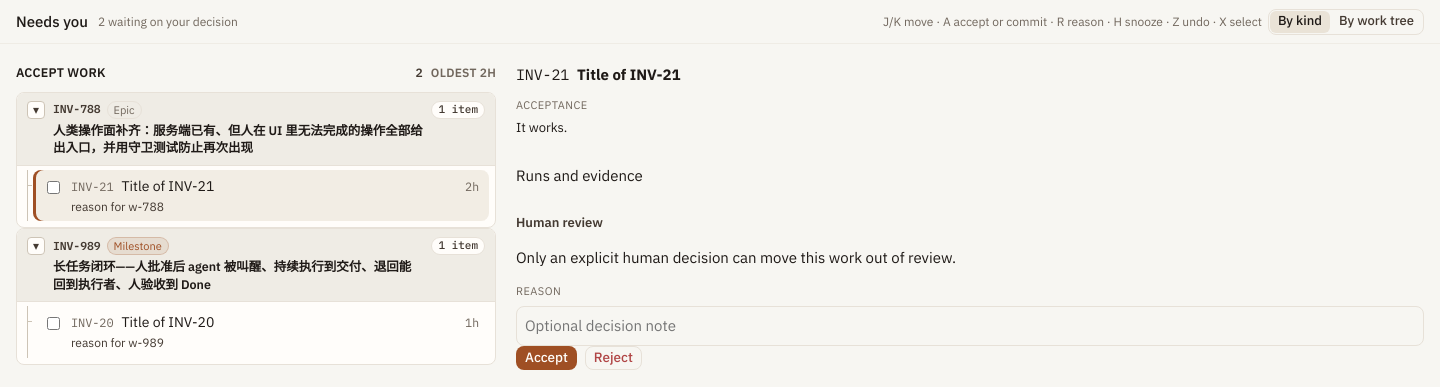
Test case: Needs you (INV-1092) › renders a milestone, epic or project group as a collapsible parent container with nested child items (INV-1302)
The image size is (1440, 387).
Expected: the text with class "attention-group__name" reads "长任务闭环——人批准后 agent 被叫醒、持续执行到交付、退回能回到执行者、人验收到 Done", [53,258,411,292]
Expected: the 2nd text with class "attention-group__count" reads "1 item", [431,237,485,255]
Note: Collapsing the Epic parent hides its child issue row and shifts focus to the remaining open group's child.
Click the button with class "attention-group__label" that starts with "INV-788" at [256, 129], box [17,92,495,166]
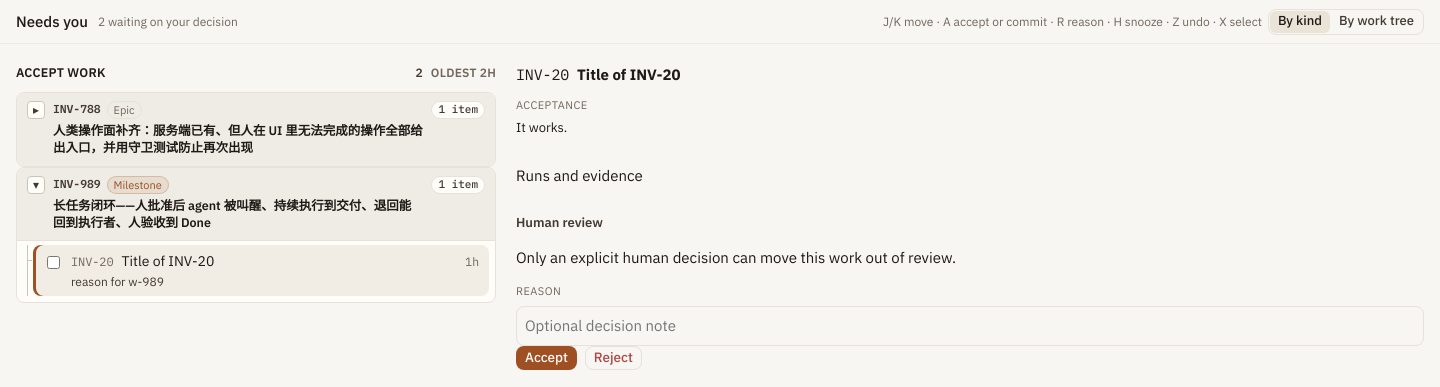
Expected: the text "INV-21" is gone
Note: Clicking the parent header again expands its child issue rows back.
Click the button with class "attention-group__label" that starts with "INV-788" at [256, 129], box [17,92,495,166]
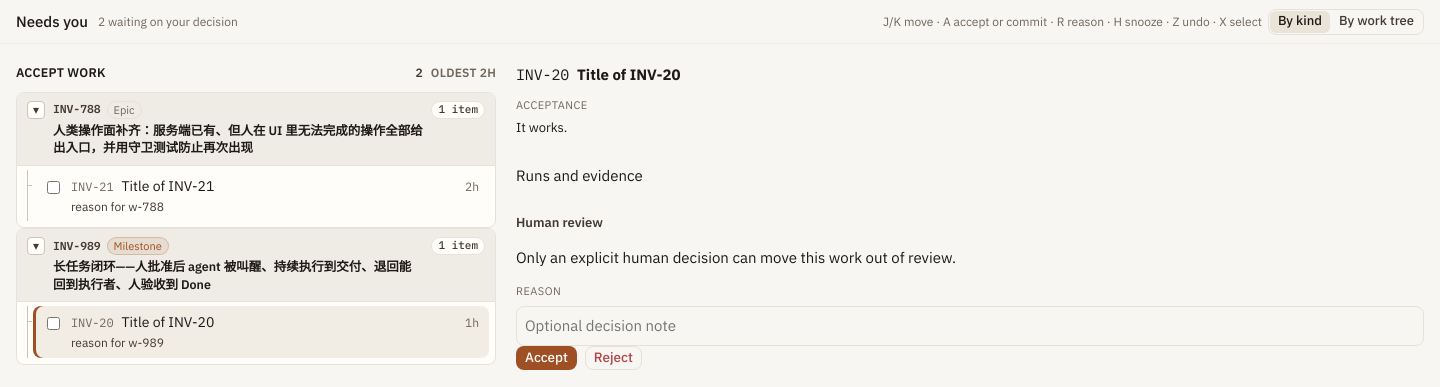
Expected: the text "INV-21" is shown, [71,178,114,195]
